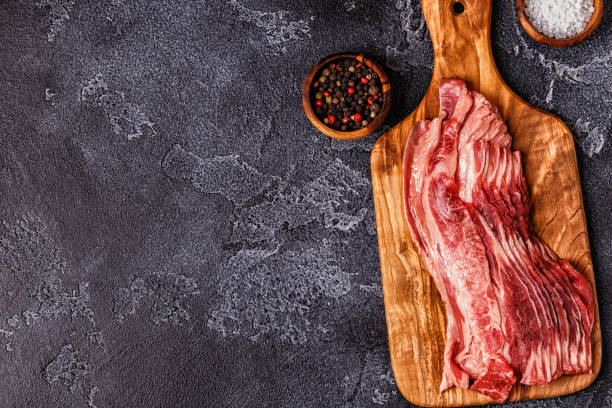bacon: (392, 76, 595, 389)
